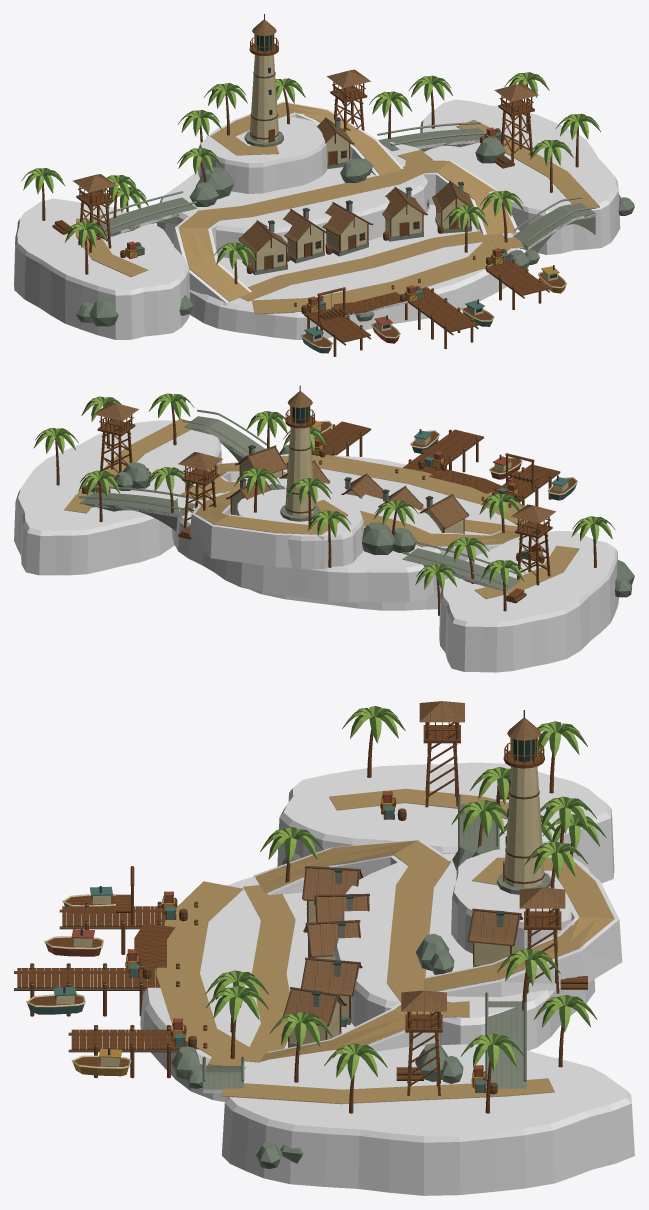
File: LighthouseIsland.fbx
The picture shows the model from 3 angles, top to bottom: view 1: azimuth 30°, elevation 25°; view 2: azimuth 150°, elevation 25°; view 3: azimuth 270°, elevation 25°; orthographic projection. The views are drawn at different scales.
Visible parts, largest first — view 1: Buildings, COL_Terrain_WestHeadland, COL_Terrain_LowVillage, COL_Terrain_EastHeadland, Vegetation, COL_Terrain_UpperVillage, COL_Terrain_LighthouseHill, Docks, Props_Rocks, Paths_Bridges, Paths_Harbour, Paths_Upper (+10 smaller); view 2: COL_Terrain_WestHeadland, COL_Terrain_EastHeadland, Buildings, COL_Terrain_UpperVillage, Vegetation, COL_Terrain_LighthouseHill, Docks, COL_Terrain_RampBanks, Paths_Bridges, COL_Terrain_LowVillage, Buildings_Lighthouse, Paths_Headlands (+9 smaller); view 3: COL_Terrain_EastHeadland, Buildings, Vegetation, COL_Terrain_WestHeadland, COL_Terrain_UpperVillage, Docks, COL_Terrain_LowVillage, Paths_Harbour, COL_Terrain_RampBanks, Paths_Headlands, Buildings_Lighthouse, Paths_Upper (+9 smaller).
Boxes of the visible parts, x1=… form: Buildings: x1=72, y1=69, x2=596, y2=275; COL_Terrain_WestHeadland: x1=14, y1=198, x2=189, y2=339; COL_Terrain_LowVillage: x1=190, y1=204, x2=520, y2=339; COL_Terrain_EastHeadland: x1=420, y1=99, x2=620, y2=254; Vegetation: x1=21, y1=72, x2=600, y2=284; COL_Terrain_UpperVillage: x1=156, y1=142, x2=429, y2=259; COL_Terrain_LighthouseHill: x1=198, y1=117, x2=327, y2=193; Docks: x1=294, y1=249, x2=549, y2=356; Props_Rocks: x1=76, y1=137, x2=634, y2=326; Paths_Bridges: x1=95, y1=128, x2=595, y2=249; Paths_Harbour: x1=251, y1=237, x2=523, y2=314; Paths_Upper: x1=197, y1=149, x2=438, y2=221; COL_Terrain_WestHeadland: x1=439, y1=531, x2=618, y2=672; COL_Terrain_EastHeadland: x1=14, y1=420, x2=221, y2=575; Buildings: x1=78, y1=402, x2=556, y2=586; COL_Terrain_UpperVillage: x1=172, y1=477, x2=441, y2=602; Vegetation: x1=33, y1=393, x2=614, y2=615; COL_Terrain_LighthouseHill: x1=236, y1=489, x2=363, y2=569; Docks: x1=311, y1=421, x2=560, y2=507; COL_Terrain_RampBanks: x1=185, y1=462, x2=501, y2=578; Paths_Bridges: x1=79, y1=416, x2=520, y2=591; COL_Terrain_LowVillage: x1=250, y1=454, x2=518, y2=610; Buildings_Lighthouse: x1=280, y1=385, x2=320, y2=521; Paths_Headlands: x1=64, y1=418, x2=579, y2=598; COL_Terrain_EastHeadland: x1=221, y1=1044, x2=634, y2=1195; Buildings: x1=202, y1=701, x2=565, y2=1095; Vegetation: x1=205, y1=706, x2=606, y2=1113; COL_Terrain_WestHeadland: x1=277, y1=762, x2=614, y2=883; COL_Terrain_UpperVillage: x1=333, y1=853, x2=595, y2=1050; Docks: x1=14, y1=901, x2=207, y2=1078; COL_Terrain_LowVillage: x1=140, y1=876, x2=354, y2=1101; Paths_Harbour: x1=156, y1=881, x2=249, y2=1065; COL_Terrain_RampBanks: x1=253, y1=839, x2=622, y2=1052; Paths_Headlands: x1=221, y1=788, x2=554, y2=1103; Buildings_Lighthouse: x1=497, y1=710, x2=551, y2=894; Paths_Upper: x1=386, y1=857, x2=469, y2=1017.
Size of what is drawn, in the model's own units: 95.83 by 35.2 by 68.14.
1 material, 1 textured.
